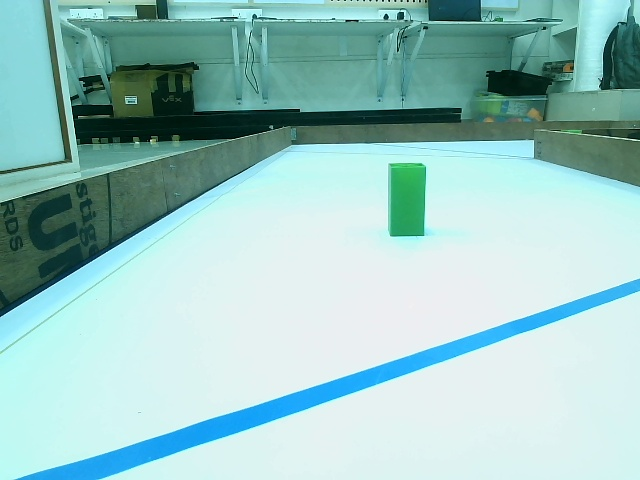green: (389, 165, 424, 235)
